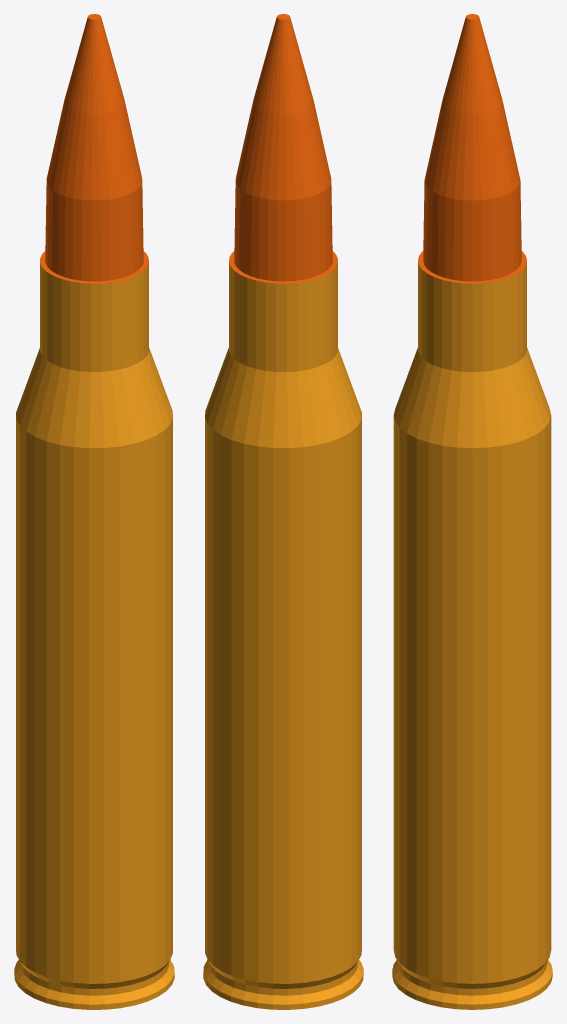
File: bullet.fbx
The picture shows the model from 3 angles, left to right: view 1: azimuth 30°, elevation 25°; view 2: azimuth 150°, elevation 25°; view 3: azimuth 270°, elevation 25°; orthographic projection.
Parts seen in each view (by area): view 1: Bullet; view 2: Bullet; view 3: Bullet.
Part boxes in pixels (x1,y1,x2,y2): Bullet: (14, 14, 174, 1009); Bullet: (203, 14, 363, 1009); Bullet: (392, 14, 552, 1009).
Bounding box in the file's own units: 3.63 × 23.95 × 3.63.
Materials: 1 (1 with a texture image).
